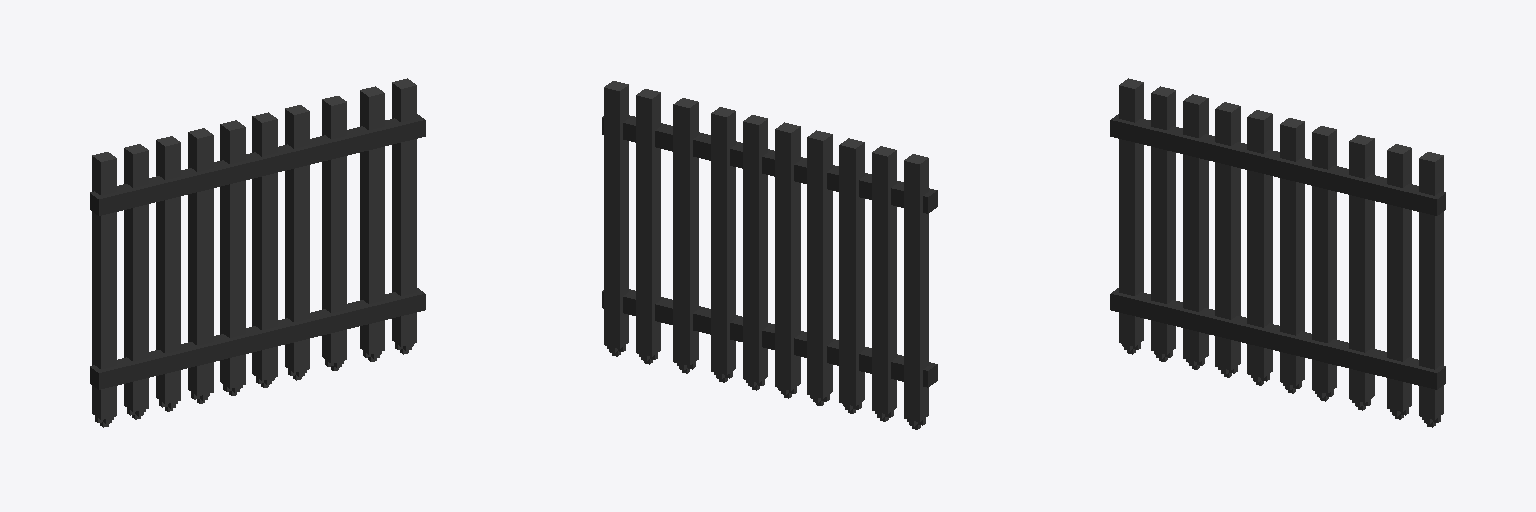
The picture shows the model from 3 angles: view 1: azimuth 30°, elevation 25°; view 2: azimuth 150°, elevation 25°; view 3: azimuth 330°, elevation 25°; orthographic projection.
Visible parts, largest first — view 1: object 1; view 2: object 1; view 3: object 1.
Boxes of the visible parts, x1=… form: object 1: x1=90, y1=78, x2=425, y2=427; object 1: x1=602, y1=81, x2=937, y2=429; object 1: x1=1110, y1=78, x2=1445, y2=427.
Bounding box in the file's own units: 6.1 × 4.8 × 0.4.
1 materials, 1 textured.